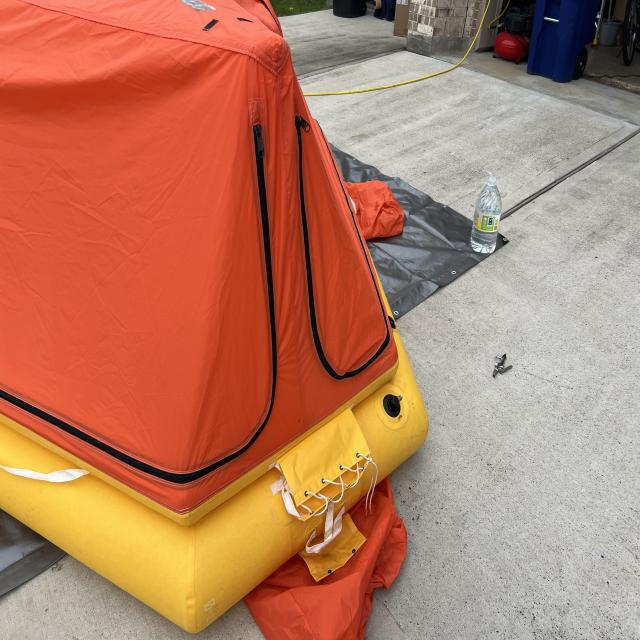Multi-person_life_raft: (0, 1, 427, 639)
